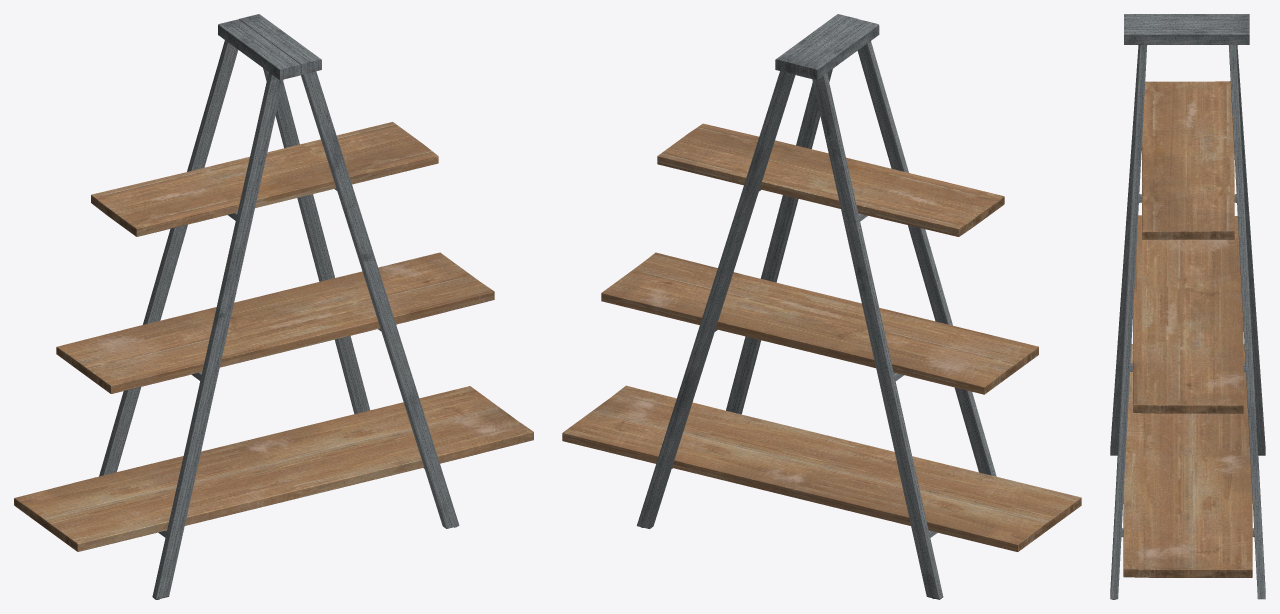
The model's file is abo-B075Z7SQND.glb.
The picture shows the model from 3 angles, left to right: view 1: azimuth 30°, elevation 25°; view 2: azimuth 150°, elevation 25°; view 3: azimuth 270°, elevation 25°; orthographic projection.
Bounding box in the file's own units: 1.75 × 1.81 × 0.508.
1 material, 1 textured.
